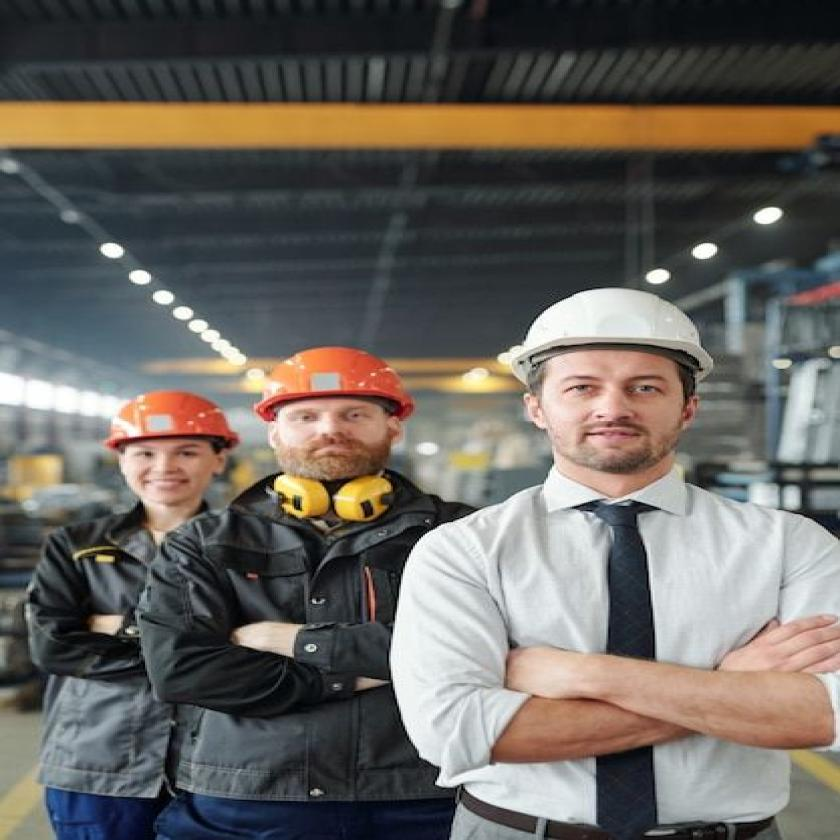Con_casco: (499, 280, 718, 495), (237, 336, 428, 521), (99, 382, 242, 521)
